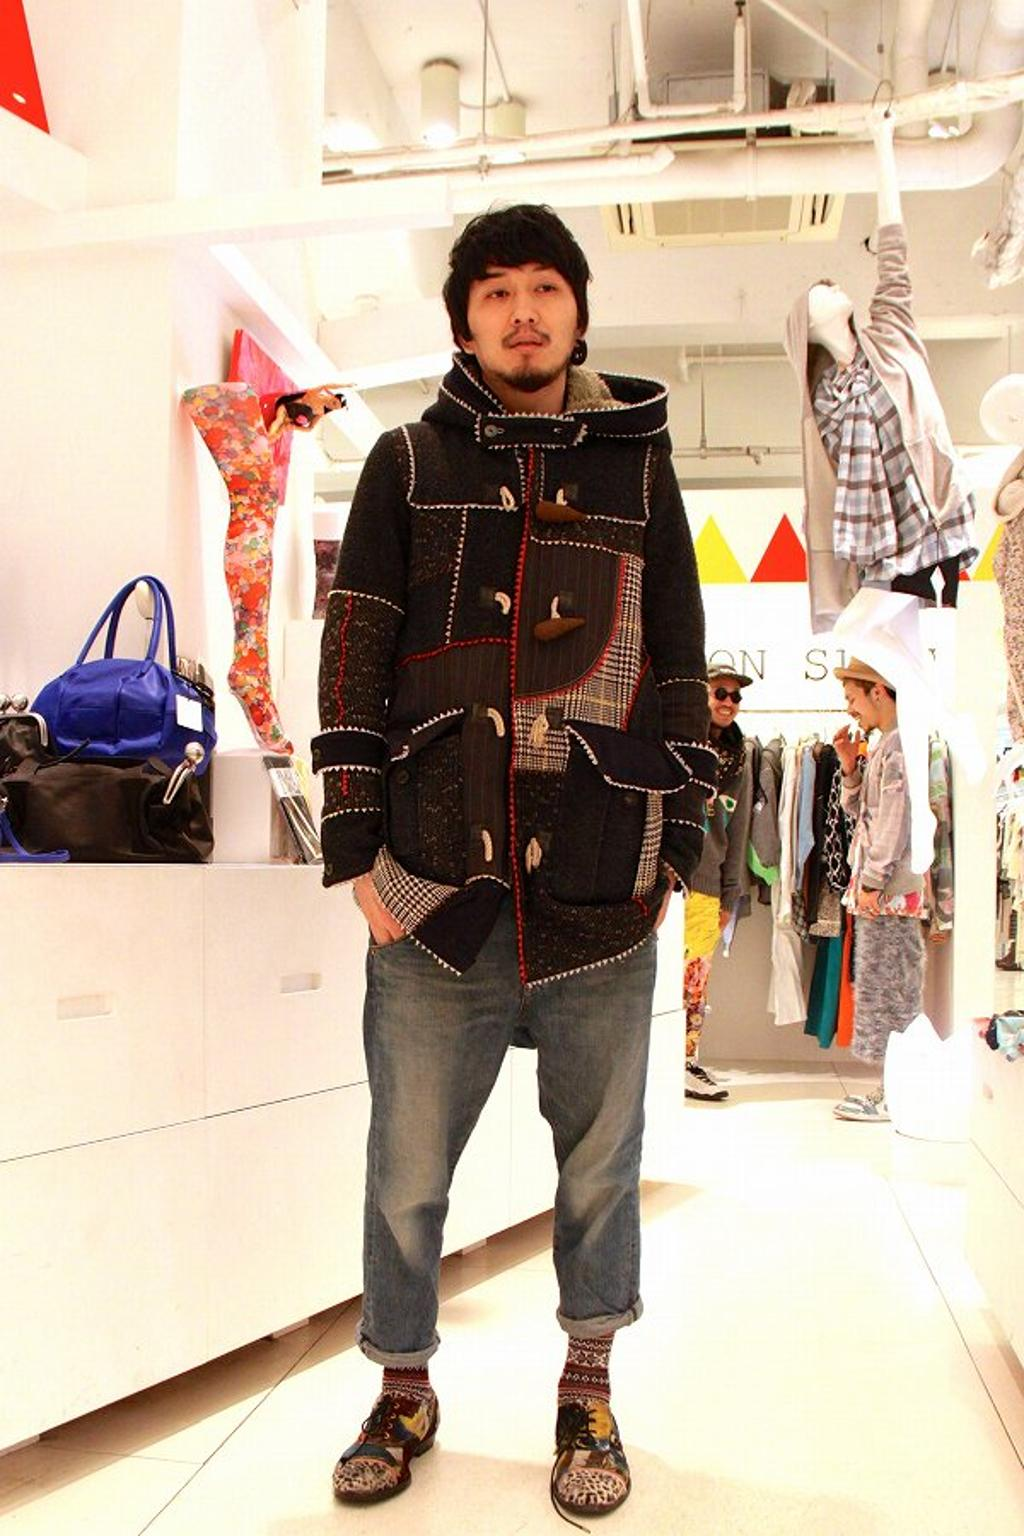face: (467, 240, 576, 380), (844, 680, 880, 731), (705, 675, 740, 727), (325, 399, 339, 409)
